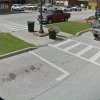crosswalk: (53, 39, 100, 62)
